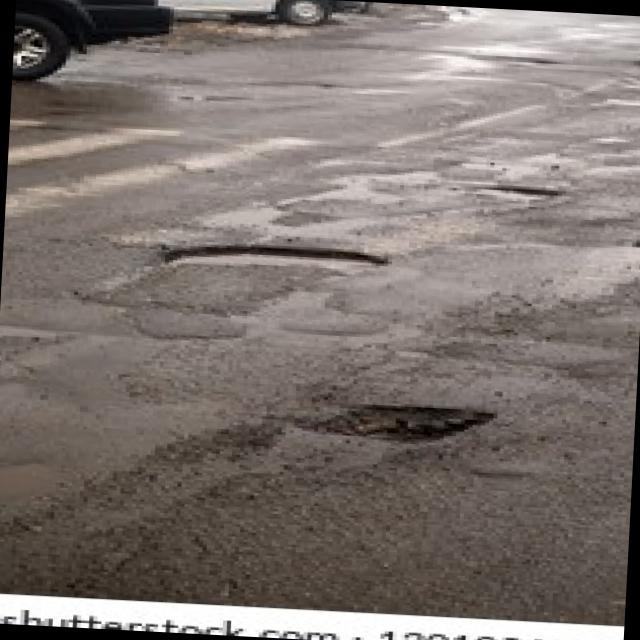Pothole: (293, 396, 506, 451), (152, 237, 392, 279), (477, 184, 562, 207), (484, 53, 550, 69), (628, 231, 640, 257)
